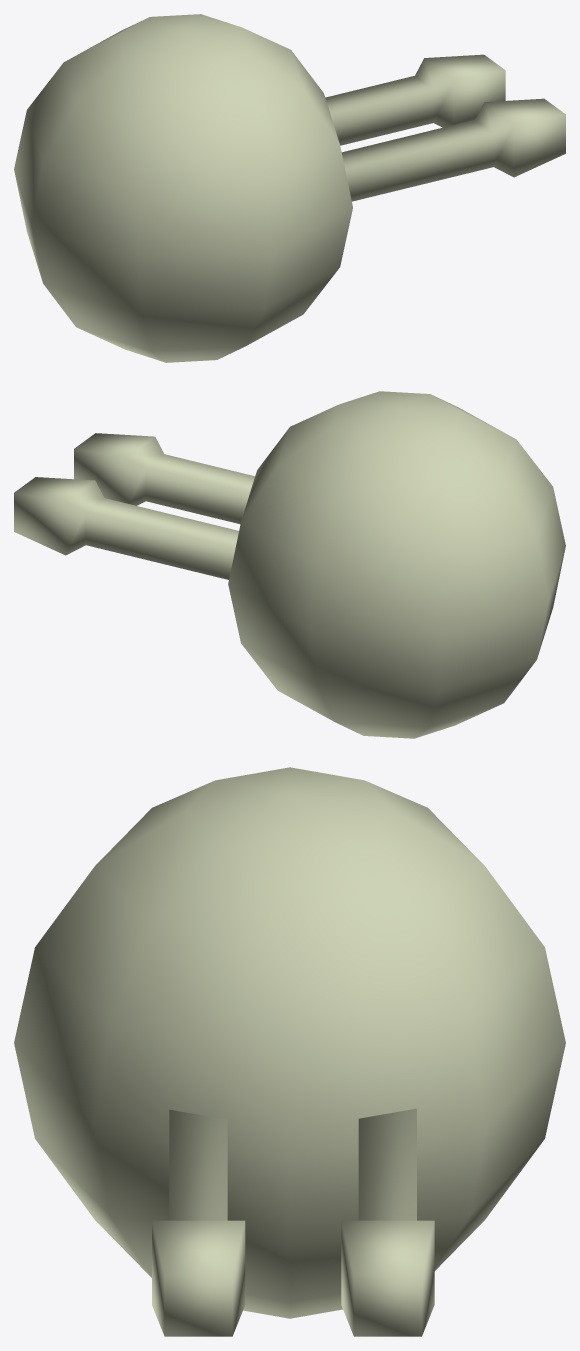
File: TurretsDoubleSmall.obj
3 views of the same model, one above another, from view 1: azimuth 30°, elevation 25°; view 2: azimuth 150°, elevation 25°; view 3: azimuth 270°, elevation 25° (orthographic). The views are drawn at different scales.
Parts seen in each view (by area): view 1: turret, cube4_copy8, cube4_copy7; view 2: turret, cube4_copy7, cube4_copy8; view 3: turret, cube4_copy7, cube4_copy8.
Boxes of the visible parts, bbox=[...] form: turret: bbox=[14, 14, 352, 362]; cube4_copy8: bbox=[341, 98, 565, 201]; cube4_copy7: bbox=[325, 54, 505, 145]; turret: bbox=[228, 391, 565, 738]; cube4_copy7: bbox=[14, 477, 238, 579]; cube4_copy8: bbox=[74, 433, 254, 524]; turret: bbox=[14, 767, 565, 1318]; cube4_copy7: bbox=[341, 1108, 434, 1336]; cube4_copy8: bbox=[152, 1109, 245, 1336].
Size of the model in its own units: 2.75 by 1.69 by 1.69.
